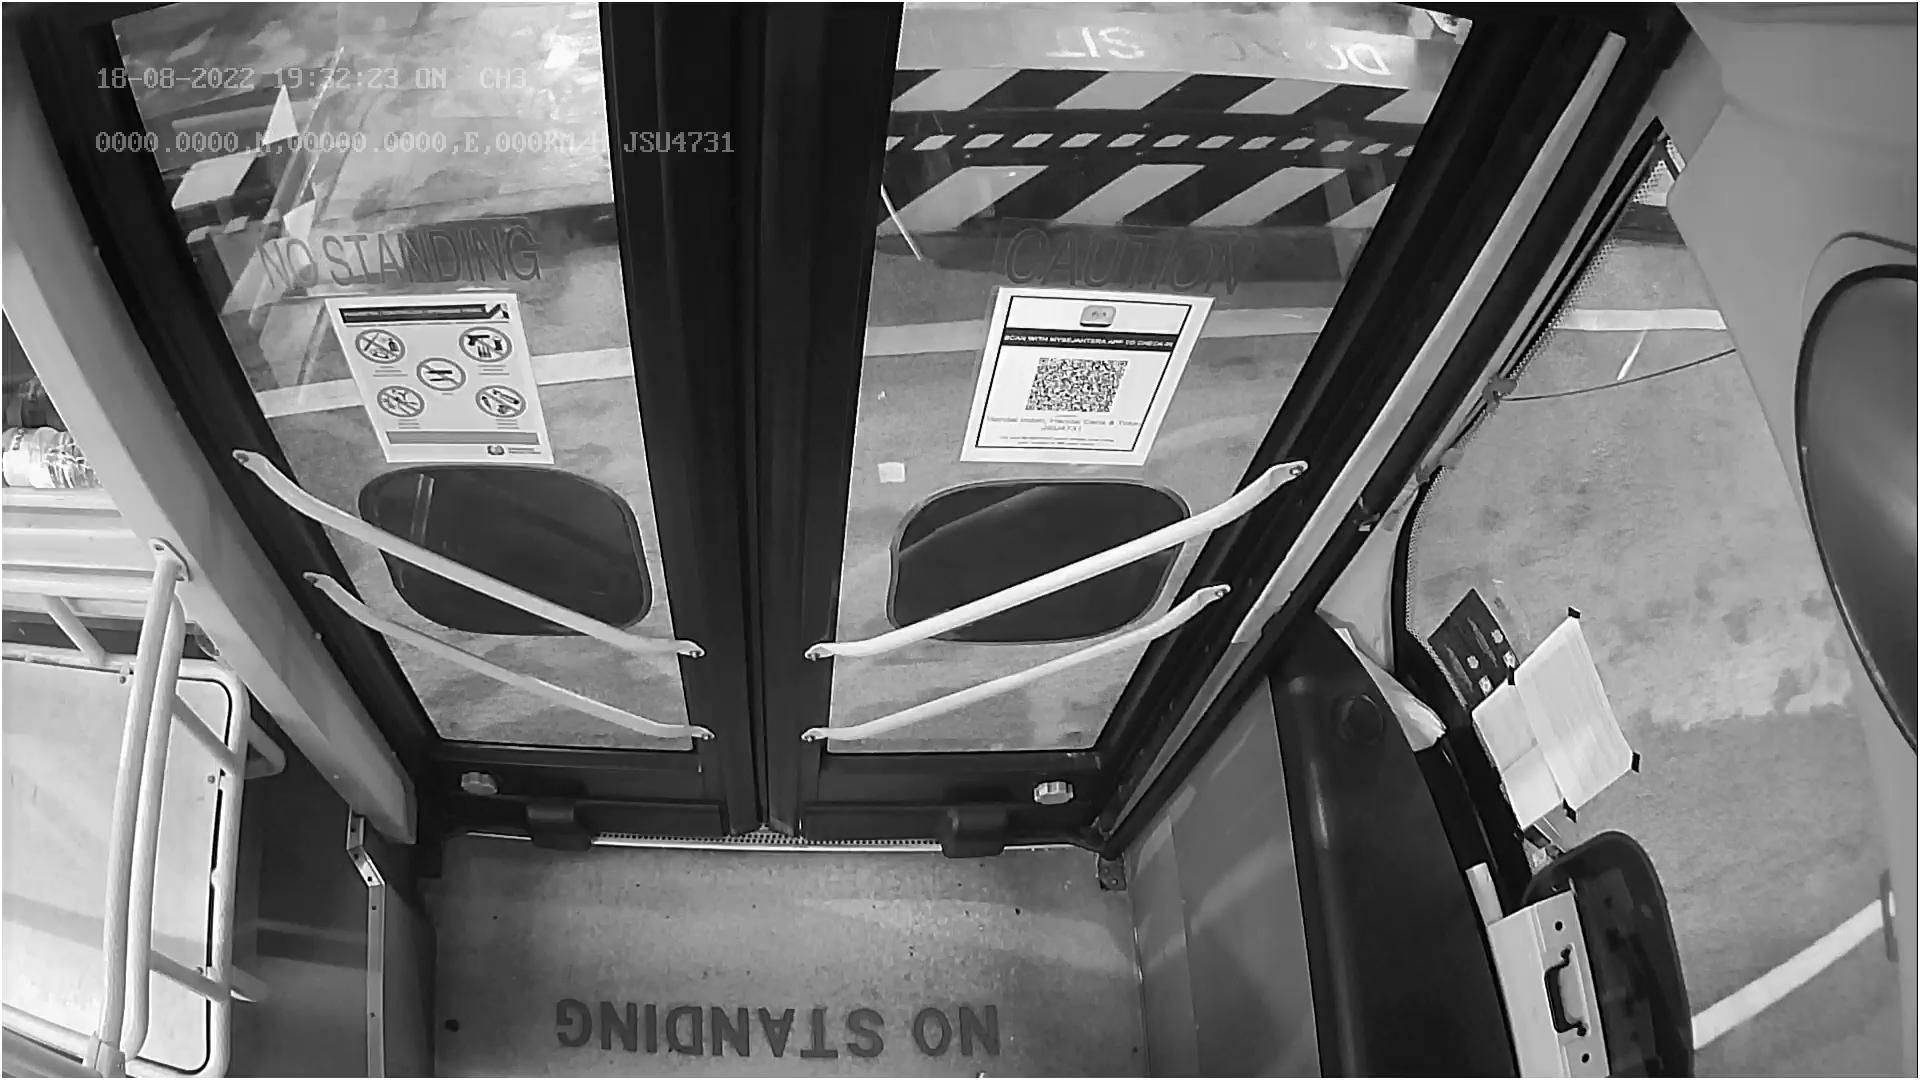close: (128, 0, 1440, 165)
